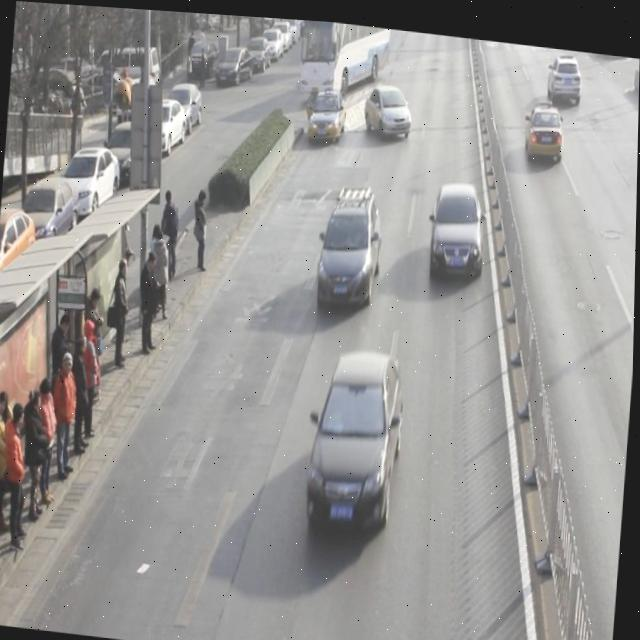car: (306, 338, 410, 534), (315, 181, 387, 312), (428, 173, 490, 278), (364, 77, 414, 135), (524, 92, 566, 156), (307, 81, 349, 141), (546, 44, 584, 101)
van: (298, 16, 389, 102)
